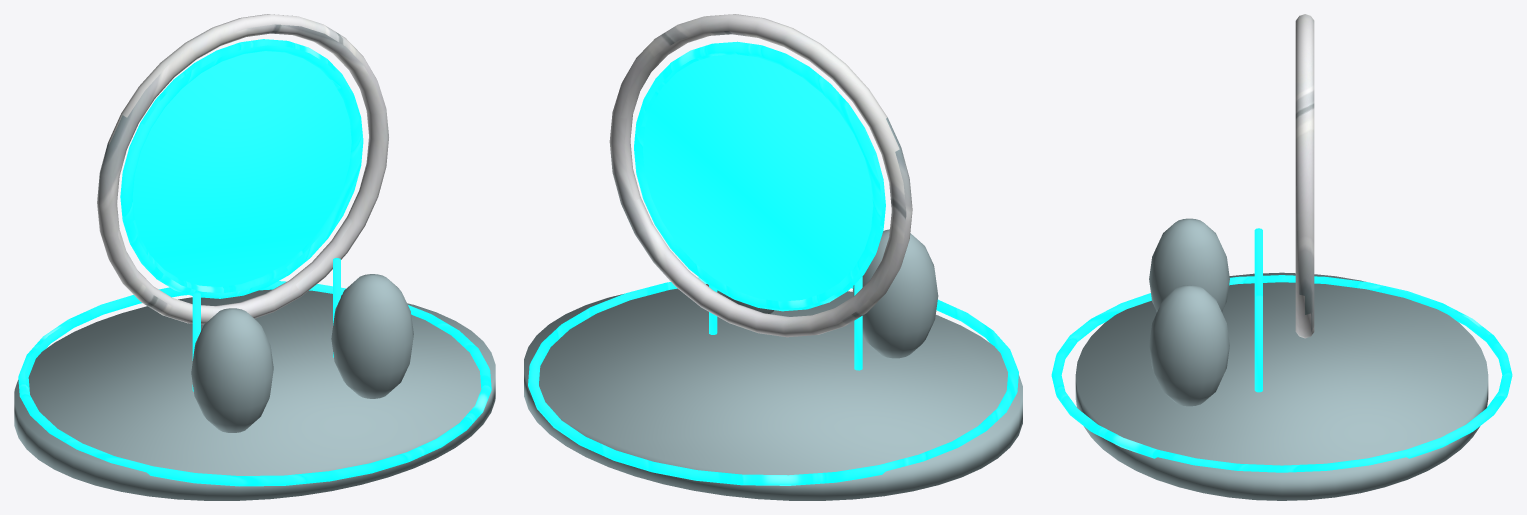
The model's file is azure_portal_spire.glb.
The picture shows the model from 3 angles, left to right: view 1: azimuth 30°, elevation 25°; view 2: azimuth 150°, elevation 25°; view 3: azimuth 270°, elevation 25°; orthographic projection. The views are drawn at different scales.
Visible parts, largest first — view 1: AzurePortalSpire; view 2: AzurePortalSpire; view 3: AzurePortalSpire.
Boxes of the visible parts, <box> form: AzurePortalSpire: <box>14,14,495,500</box>; AzurePortalSpire: <box>524,14,1022,500</box>; AzurePortalSpire: <box>1051,14,1512,500</box>.
Bounding box in the file's own units: 4.2 × 3.53 × 3.99.
Materials: 2 (2 with a texture image).
